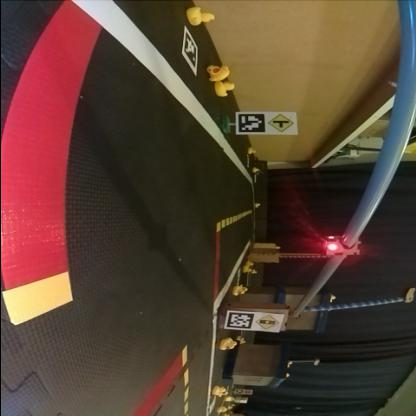Duckie: (186, 7, 214, 26), (208, 66, 230, 80), (216, 83, 234, 97), (220, 342, 234, 350), (212, 388, 226, 396), (233, 288, 244, 296), (248, 149, 256, 155), (218, 408, 226, 414), (244, 269, 252, 273), (252, 168, 258, 173), (253, 204, 260, 208)
Intersection sign: (268, 114, 294, 134)
QR code: (182, 29, 198, 77), (238, 114, 266, 134), (227, 312, 254, 330)
Signal sign: (258, 314, 280, 330)
Traffic light: (324, 238, 360, 256)
